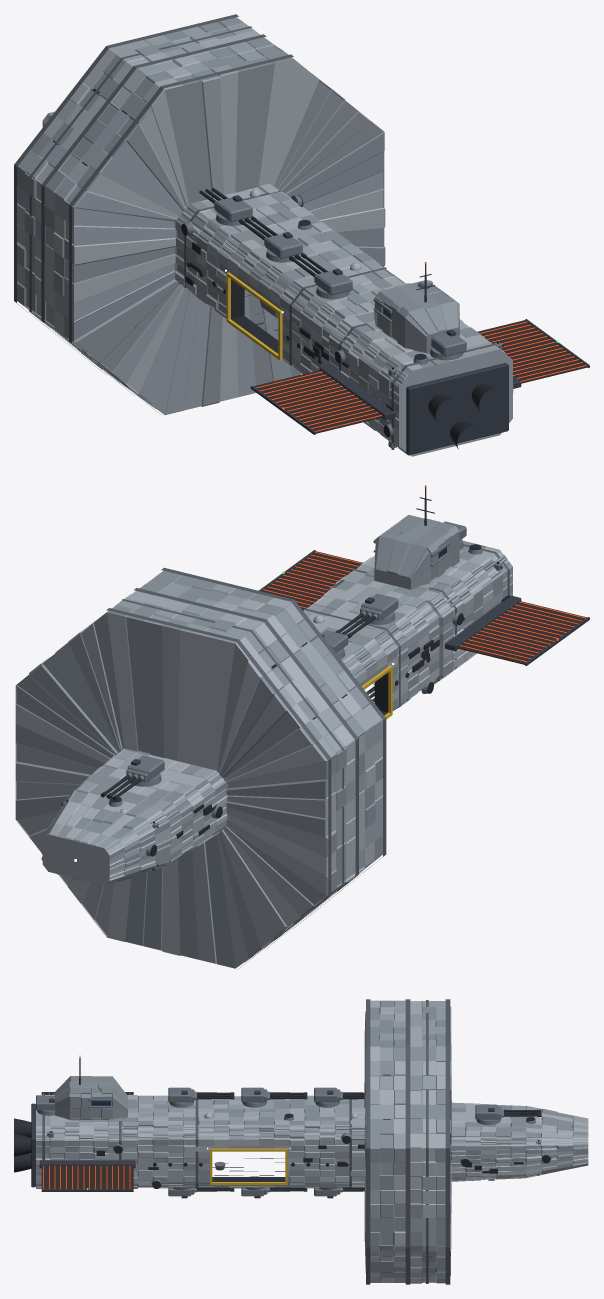
The model's file is hull.glb.
3 renders of one model, top to bottom at view 1: azimuth 30°, elevation 25°; view 2: azimuth 150°, elevation 25°; view 3: azimuth 270°, elevation 25°, orthographic. The views are drawn at different scales.
Visible parts, largest first — view 1: hull, fittings, radiator-port, island, radiator-stbd, turret-h3d, turret-h1d, turret-h2d, turret-stern-d; view 2: hull, fittings, island, radiator-port, radiator-stbd, turret-h3d, turret-dorsal; view 3: hull, fittings, island, radiator-stbd, turret-h3d, turret-h1d, turret-h2d, turret-dorsal.
Boxes of the visible parts, x1,y1,x2,y2 form: hull: (17,17,513,456); fittings: (14,14,521,454); radiator-port: (250,370,383,434); island: (374,280,459,353); radiator-stbd: (477,319,589,383); turret-h3d: (314,268,352,295); turret-h1d: (214,195,252,221); turret-h2d: (264,232,302,258); turret-stern-d: (431,329,466,356); hull: (15,540,512,968); fittings: (61,485,521,967); island: (374,514,459,589); radiator-port: (457,601,589,665); radiator-stbd: (259,550,363,610); turret-h3d: (360,593,398,620); turret-dorsal: (126,755,164,782); hull: (36,1000,588,1283); fittings: (14,999,589,1284); island: (55,1076,128,1120); radiator-stbd: (41,1165,133,1191); turret-h3d: (168,1087,194,1102); turret-h1d: (314,1087,340,1102); turret-h2d: (241,1087,267,1102); turret-dorsal: (475,1105,501,1119).
Bounding box in the file's own units: 138 × 138 × 300.
